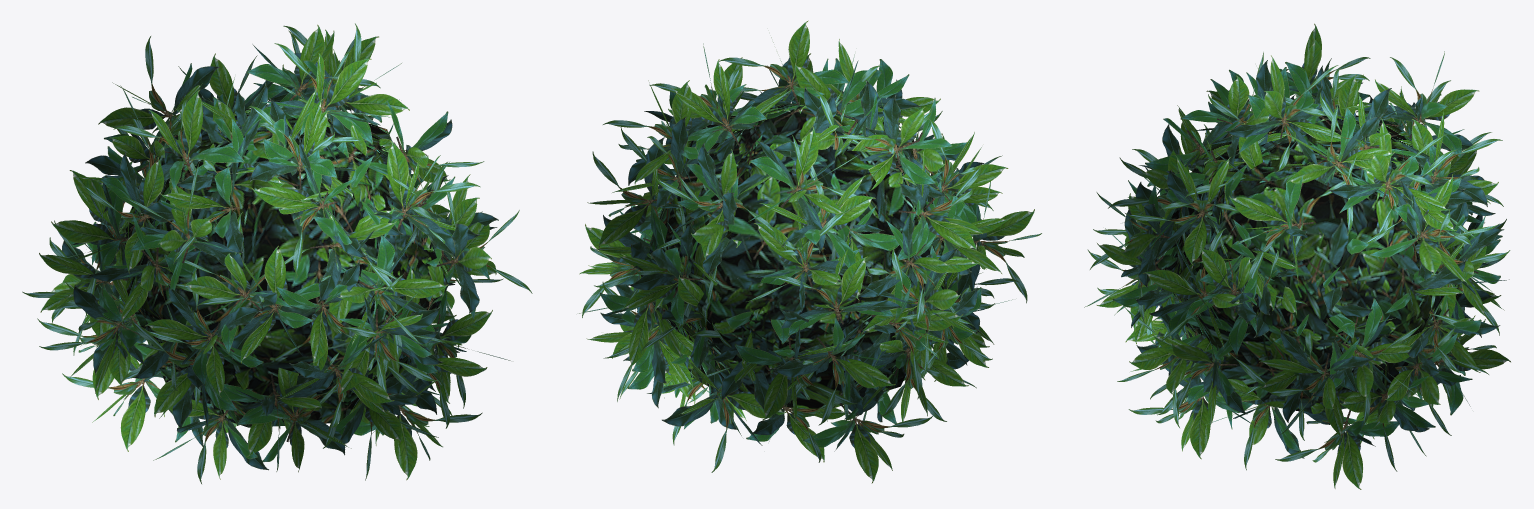
The model's file is HedgeSmallRoundExp.obj.
3 renders of one model, left to right at view 1: azimuth 30°, elevation 25°; view 2: azimuth 150°, elevation 25°; view 3: azimuth 270°, elevation 25°, orthographic. The views are drawn at different scales.
Parts seen in each view (by area): view 1: HedgeSmallRound_HedgeSmallRound_Default_OBJ; view 2: HedgeSmallRound_HedgeSmallRound_Default_OBJ; view 3: HedgeSmallRound_HedgeSmallRound_Default_OBJ.
Part boxes in pixels (<box>): HedgeSmallRound_HedgeSmallRound_Default_OBJ: <box>22,23,532,483</box>; HedgeSmallRound_HedgeSmallRound_Default_OBJ: <box>579,20,1041,483</box>; HedgeSmallRound_HedgeSmallRound_Default_OBJ: <box>1084,23,1510,489</box>.
Bounding box in the file's own units: 23.92 × 21.96 × 21.75.
1 material, 1 textured.
